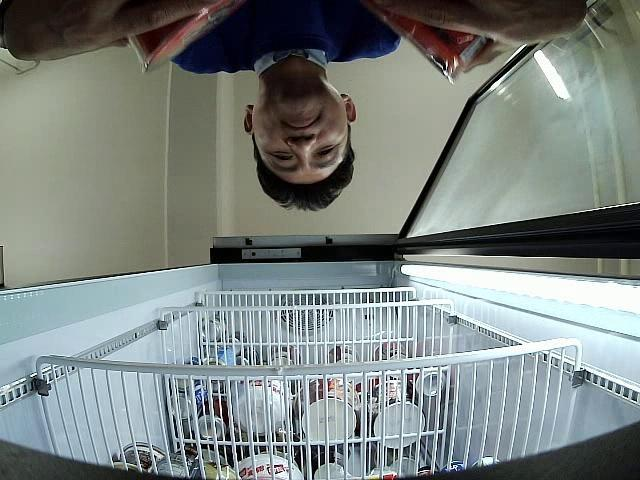01_ShinRamen_L: (378, 0, 494, 79), (131, 0, 234, 75)
